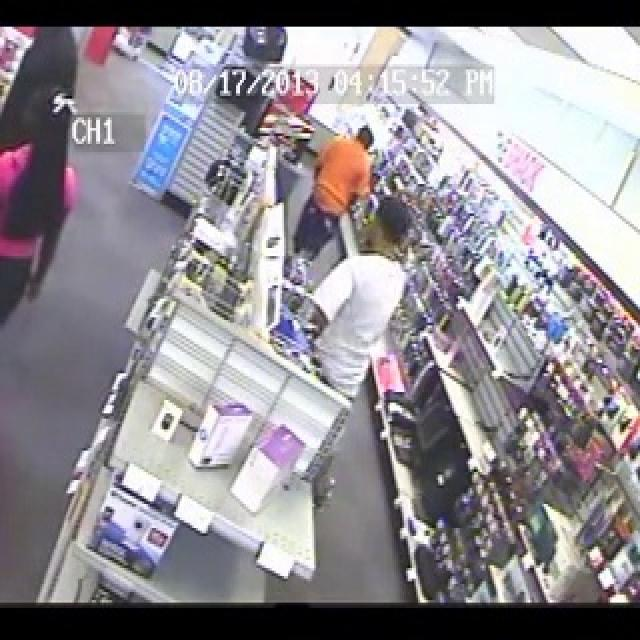Normal: (2, 27, 640, 600)
